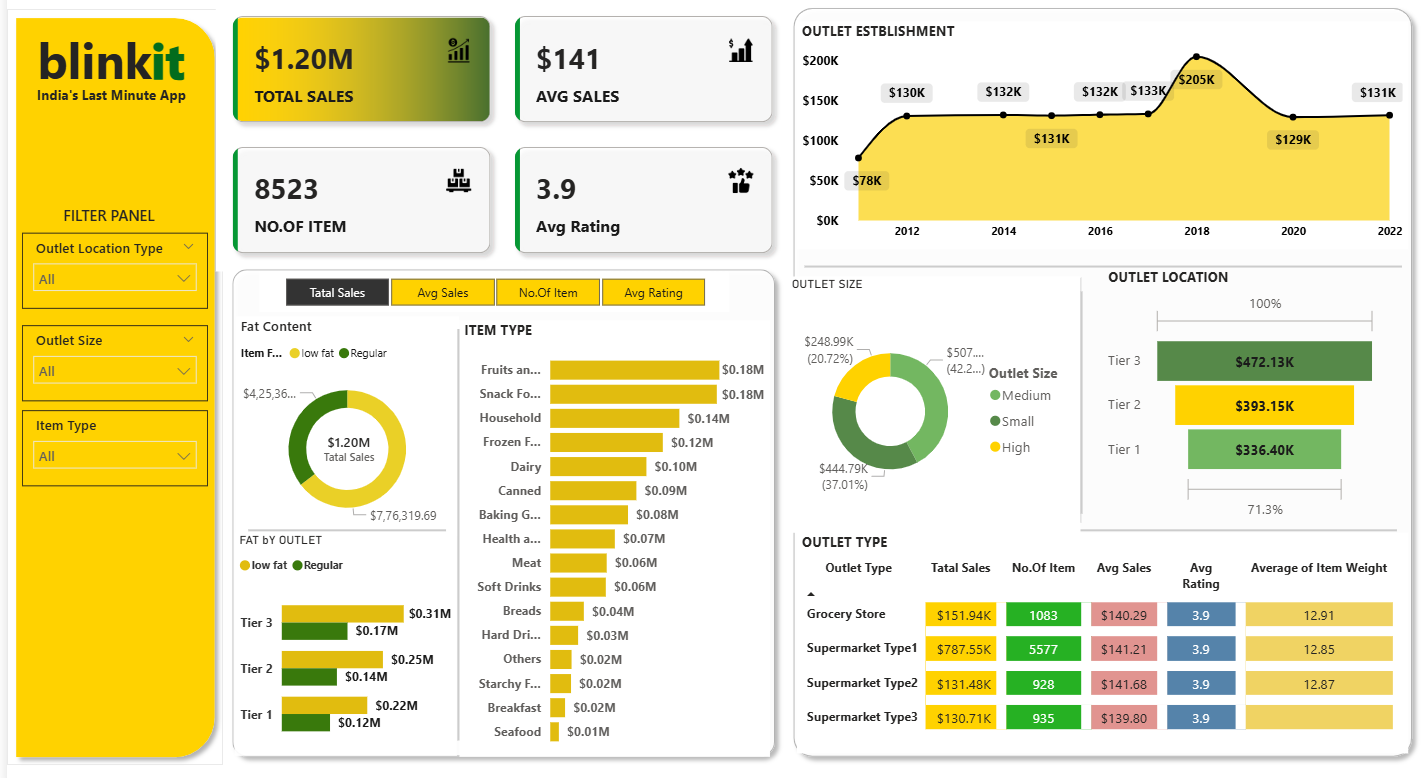

The dashboard page shown, as its layout file describes it:
{"tool":"powerbi","page":{"name":"Page 1","canvas":[1400,800],"ordinal":0},"visuals":[{"type":"shape","box":[0,24.1,214.5,749.3],"z":0},{"type":"textbox","box":[21.4,37.5,163.5,87.1],"z":1000},{"type":"textbox","box":[21.4,95.2,175.6,38.9],"z":2000},{"type":"cardVisual","fields":{"Data":["Blinkit Grocery Data.Tatal Sales","Blinkit Grocery Data.Avg Sales","Blinkit Grocery Data.No.Of Item","Blinkit Grocery Data.Avg Rating"]},"box":[206.4,14.7,569.7,269.4],"z":3000},{"type":"shape","box":[214.5,273.5,555,500],"z":4000},{"type":"donutChart","title":" Fat Content","fields":{"Y":["Blinkit Grocery Data.Tatal Sales"],"Category":["Blinkit Grocery Data.Item Fat Content"]},"box":[226.5,328.4,221.2,217.2],"z":5000},{"type":"slicer","fields":{"Values":["Metrix.Metrix"]},"box":[249.3,284.2,465.1,40.2],"z":6000},{"type":"cardVisual","fields":{"Data":["Blinkit Grocery Data.Tatal Sales"]},"box":[286.9,422.3,103.2,75.1],"z":7000},{"type":"clusteredBarChart","title":"FAT bY OUTLET","fields":{"Y":["Blinkit Grocery Data.Tatal Sales"],"Category":["Blinkit Grocery Data.Outlet Location Type"],"Series":["Blinkit Grocery Data.Item Fat Content"]},"box":[225.2,542.9,219.8,221.2],"z":8000},{"type":"shape","box":[238.6,516.1,195.7,49.6],"z":9000},{"type":"shape","box":[424.9,341.8,44.2,407.5],"z":10000},{"type":"barChart","title":"ITEM TYPE","fields":{"Y":["Blinkit Grocery Data.Tatal Sales"],"Category":["Blinkit Grocery Data.Item Type"]},"box":[447.7,332.4,307,431.6],"z":11000},{"type":"shape","box":[769.4,14.7,630,758.7],"z":12000},{"type":"lineChart","title":"OUTLET ESTBLISHMENT","fields":{"Category":["Blinkit Grocery Data.Outlet Establishment Year"],"Y":["Blinkit Grocery Data.Tatal Sales"]},"box":[781.5,37.5,604.6,225.2],"z":13000},{"type":"shape","box":[789.5,254.7,591.2,49.6],"z":14000},{"type":"funnel","title":"OUTLET LOCATION","fields":{"Category":["Blinkit Grocery Data.Outlet Location Type"],"Y":["Blinkit Grocery Data.Tatal Sales"]},"box":[1084.5,280.2,276.1,254.7],"z":15000},{"type":"shape","box":[784.2,516.1,591.2,49.6],"z":16000},{"type":"shape","box":[1012.1,290.9,100.5,242.6],"z":17000},{"type":"pivotTable","title":"OUTLET TYPE","fields":{"Values":["Blinkit Grocery Data.Tatal Sales","Blinkit Grocery Data.No.Of Item","Blinkit Grocery Data.Avg Sales","Blinkit Grocery Data.Avg Rating","Avg(Blinkit Grocery Data.Item Weight)"],"Rows":["Blinkit Grocery Data.Outlet Type"]},"box":[781.5,542.9,604.6,218.5],"z":18000},{"type":"slicer","fields":{"Values":["Blinkit Grocery Data.Outlet Location Type"]},"box":[14.7,246.7,183.6,75.1],"z":19000},{"type":"slicer","fields":{"Values":["Blinkit Grocery Data.Outlet Size"]},"box":[14.7,337.8,183.6,75.1],"z":20000},{"type":"slicer","fields":{"Values":["Blinkit Grocery Data.Item Type"]},"box":[14.7,422.3,183.6,75.1],"z":21000},{"type":"donutChart","title":"OUTLET SIZE","fields":{"Y":["Blinkit Grocery Data.Tatal Sales"],"Category":["Blinkit Grocery Data.Outlet Size"]},"box":[776.1,280.2,290.9,254.7],"z":22000},{"type":"shape","box":[1036.2,304.3,53.6,219.8],"z":23000},{"type":"textbox","box":[50.9,214.5,116.6,32.2],"z":24000}]}

Visuals, with their boxes on the page's 1400x800 design canvas (x1, y1, x2, y2). These are canvas units, not pixel positions in the 1421x778 screenshot, which may show the page scaled, cropped or inside an application window:
shape: (0, 24, 214, 773)
textbox: (21, 38, 185, 125)
textbox: (21, 95, 197, 134)
cardVisual - Blinkit Grocery Data.Tatal Sales x Blinkit Grocery Data.Avg Sales: (206, 15, 776, 284)
shape: (214, 274, 770, 774)
" Fat Content" donutChart: (226, 328, 448, 546)
slicer - Metrix.Metrix: (249, 284, 714, 324)
cardVisual - Blinkit Grocery Data.Tatal Sales: (287, 422, 390, 497)
"FAT bY OUTLET" clusteredBarChart: (225, 543, 445, 764)
shape: (239, 516, 434, 566)
shape: (425, 342, 469, 749)
"ITEM TYPE" barChart: (448, 332, 755, 764)
shape: (769, 15, 1399, 773)
"OUTLET ESTBLISHMENT" lineChart: (782, 38, 1386, 263)
shape: (790, 255, 1381, 304)
"OUTLET LOCATION" funnel: (1084, 280, 1361, 535)
shape: (784, 516, 1375, 566)
shape: (1012, 291, 1113, 534)
"OUTLET TYPE" pivotTable: (782, 543, 1386, 761)
slicer - Blinkit Grocery Data.Outlet Location Type: (15, 247, 198, 322)
slicer - Blinkit Grocery Data.Outlet Size: (15, 338, 198, 413)
slicer - Blinkit Grocery Data.Item Type: (15, 422, 198, 497)
"OUTLET SIZE" donutChart: (776, 280, 1067, 535)
shape: (1036, 304, 1090, 524)
textbox: (51, 214, 168, 247)
